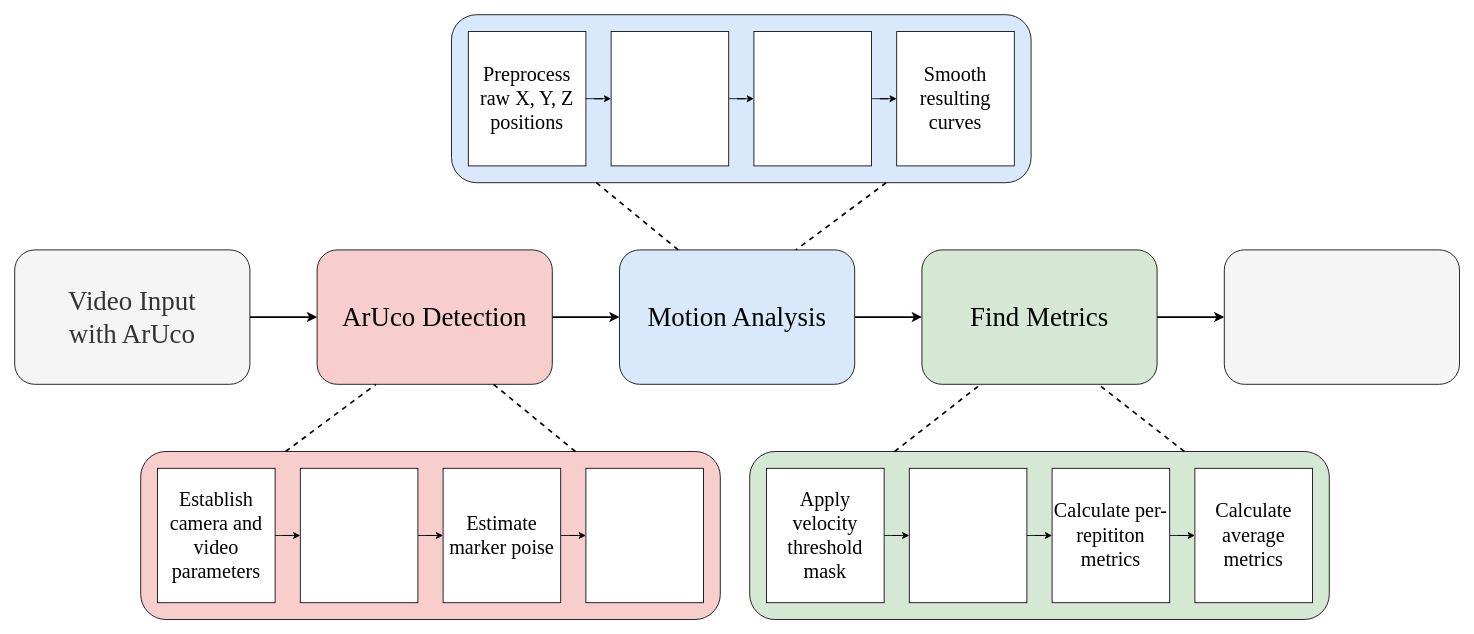
Some shapes in this 1474 by 634 pixel diagram are drawn without their labels. Here are the shapes that lost their labels. From the top down, the box of each, then its label:
(610, 31, 729, 166): Find Euclidean displacement
(753, 31, 872, 166): Gradient to find velocity and acceleration
(1223, 249, 1460, 384): Output Metrics and Visuals
(299, 467, 418, 603): Locate ArUco marker
(585, 467, 704, 603): Store translation and rotation vectors
(908, 467, 1027, 603): Apply time and distance filters
